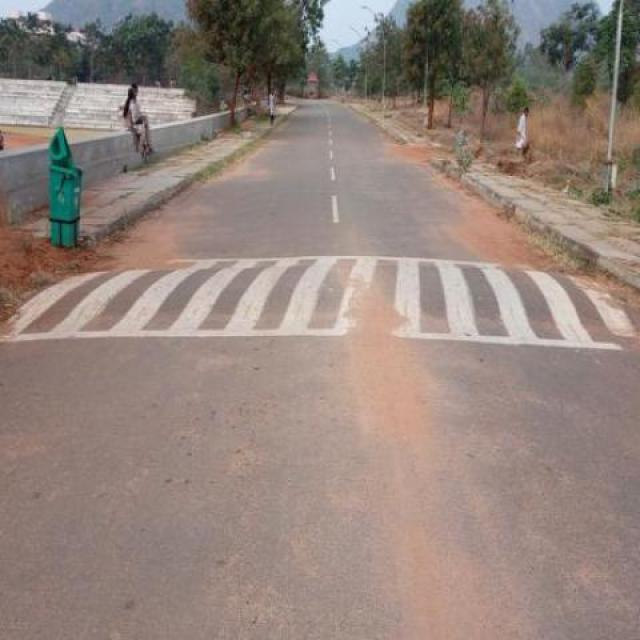Speed Bump: (1, 256, 620, 347)
